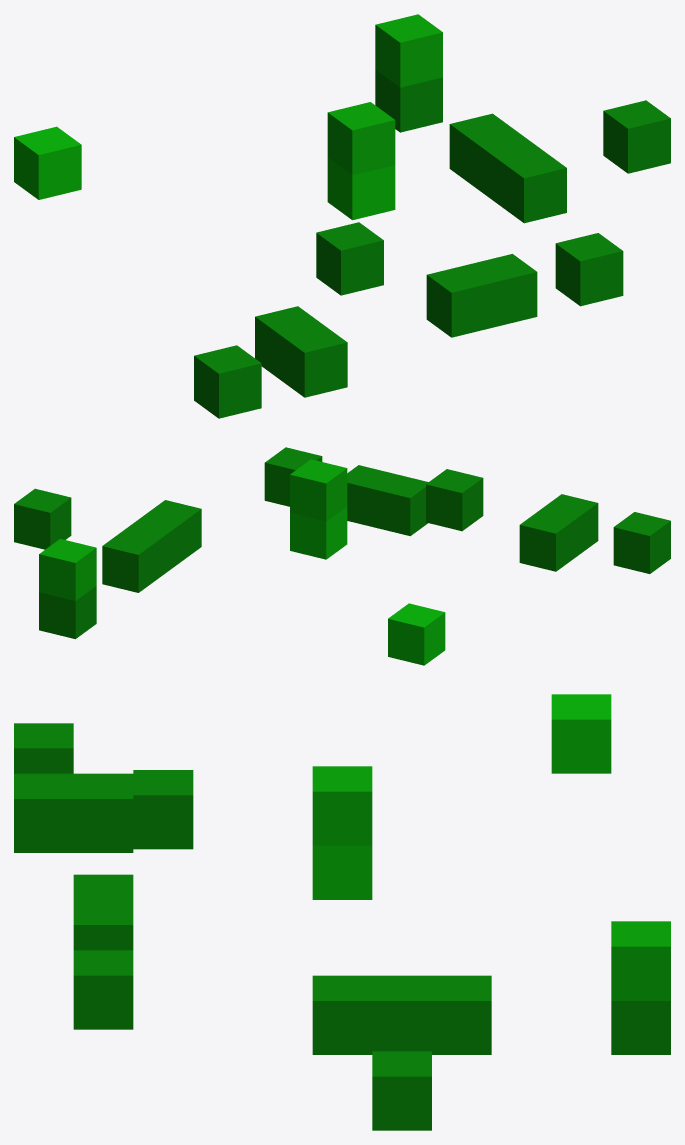
File: Splash2.obj
3 views of the same model, one above another, from view 1: azimuth 30°, elevation 25°; view 2: azimuth 150°, elevation 25°; view 3: azimuth 270°, elevation 25° (orthographic). The views are drawn at different scales.
Size of the model in its own units: 1.4 by 0.3 by 1.1.
Materials: 1 (1 with a texture image).
